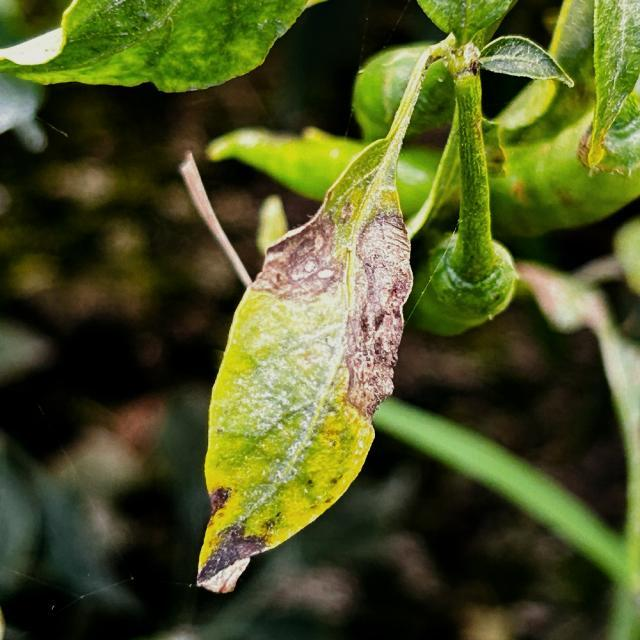Bercak Daun Serkospora: (195, 137, 416, 595)
